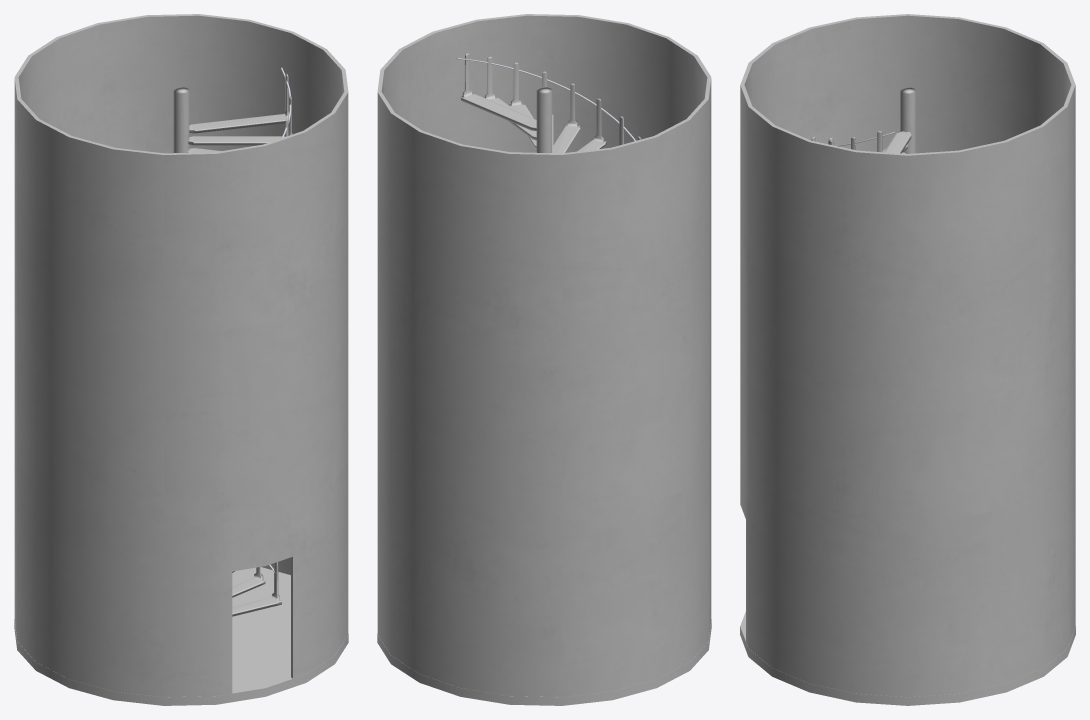
File: SpiralStaircase2.fbx
3 renders of one model, left to right at view 1: azimuth 30°, elevation 25°; view 2: azimuth 150°, elevation 25°; view 3: azimuth 270°, elevation 25°, orthographic.
Visible parts, largest first — view 1: polySurface9; view 2: polySurface9; view 3: polySurface9.
Part boxes in pixels (box(x1,y1,x2,y2)): polySurface9: box(14, 14, 348, 705); polySurface9: box(377, 14, 711, 705); polySurface9: box(740, 14, 1075, 705).
Size of the model in its own units: 268 by 484 by 268.
